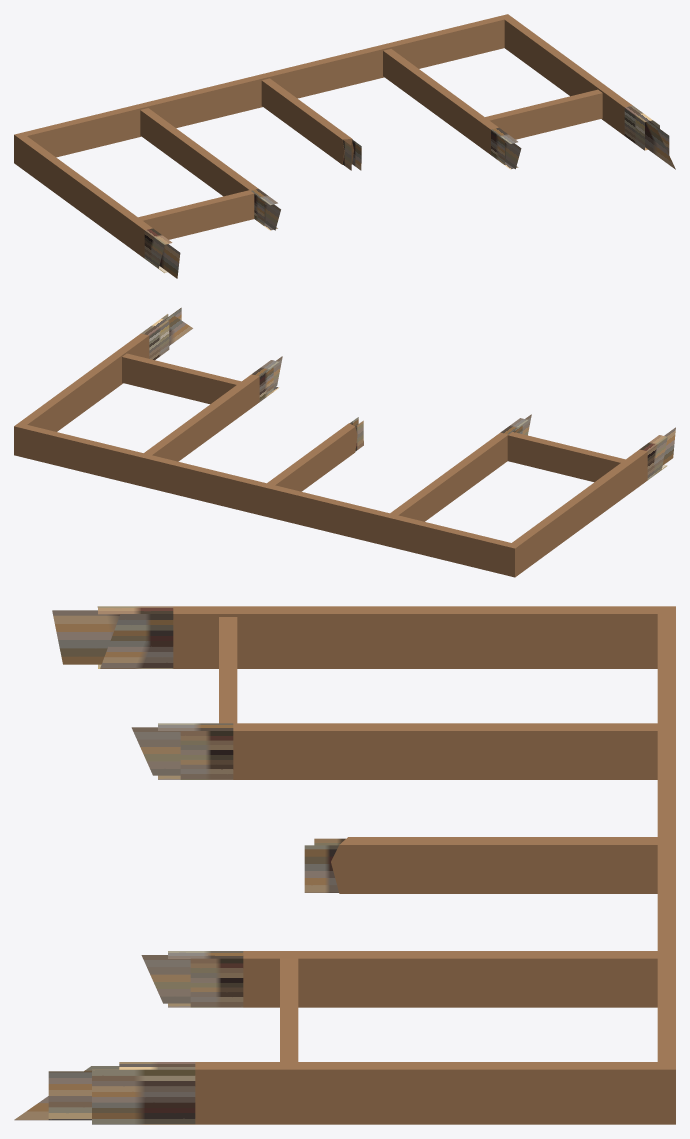
File: DBK_WoodFrame_Floor_Tile_A.fbx
3 renders of one model, top to bottom at view 1: azimuth 30°, elevation 25°; view 2: azimuth 150°, elevation 25°; view 3: azimuth 270°, elevation 25°, orthographic. The views are drawn at different scales.
Parts seen in each view (by area): view 1: DBK_WoodFrame_Floor_Tile_A; view 2: DBK_WoodFrame_Floor_Tile_A; view 3: DBK_WoodFrame_Floor_Tile_A.
Boxes of the visible parts, x1=… form: DBK_WoodFrame_Floor_Tile_A: x1=14, y1=14, x2=675, y2=278; DBK_WoodFrame_Floor_Tile_A: x1=14, y1=307, x2=675, y2=577; DBK_WoodFrame_Floor_Tile_A: x1=14, y1=606, x2=675, y2=1124.
Size of the model in its own units: 300 by 16.58 by 181.
